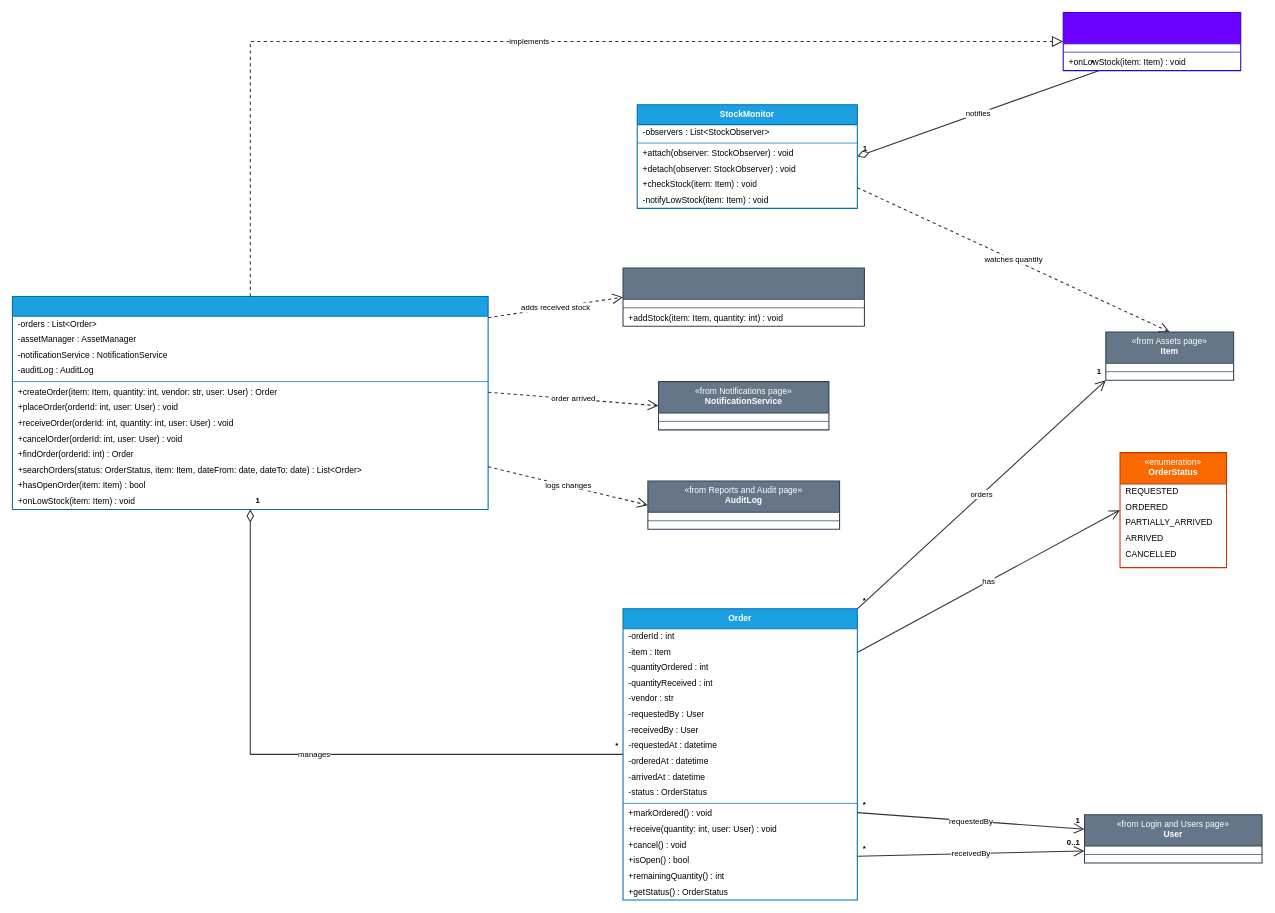
This 1275x913 diagram has some shape labels left out. The box of each missing label's shape, as (x1, y1, x2, y2) in pixels:
OrderManager: (12, 296, 488, 510)
«from Assets page» AssetManager: (622, 267, 865, 326)
«interface» StockObserver: (1062, 12, 1241, 71)
